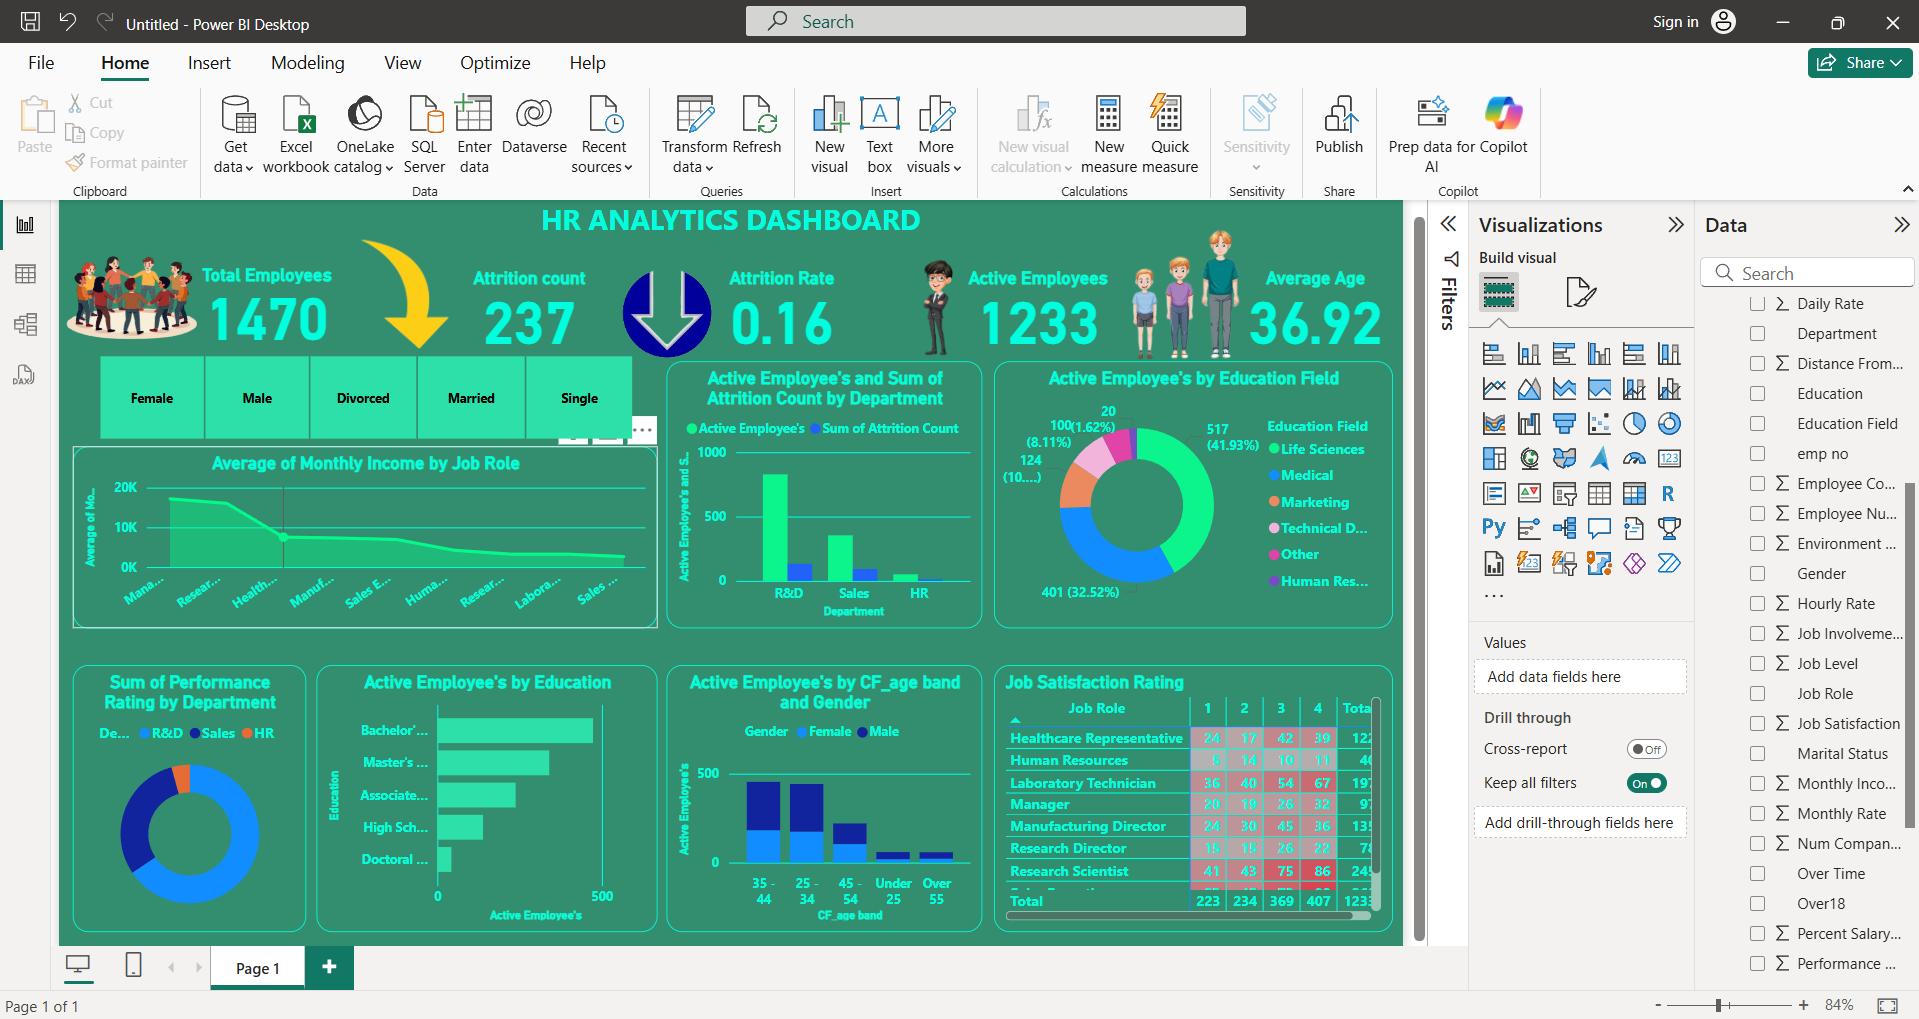

This screenshot's page, from the dashboard's own definition file:
{"tool":"powerbi","page":{"name":"Page 1","canvas":[1280,720],"ordinal":0},"visuals":[{"type":"card","title":"Attrition count","fields":{"Values":["Sum(HR data.Attrition Count)"]},"box":[365.5,69,165.5,94],"z":0},{"type":"card","title":"Total Employees","fields":{"Values":["Sum(HR data.Employee Count)"]},"box":[115.5,65.5,165.5,94],"z":1000},{"type":"card","title":"Average Age","fields":{"Values":["Avg(HR data.Age)"]},"box":[1114.3,69,165.5,94],"z":2000},{"type":"card","title":"Active Employees","fields":{"Values":["HR data.Active Employee's"]},"box":[850,69,165.5,94],"z":3000},{"type":"card","title":"Attrition Rate","fields":{"Values":["HR data.Attrition Rate"]},"box":[606,69,165.5,94],"z":4000},{"type":"clusteredColumnChart","fields":{"Y":["HR data.Active Employee's","Sum(HR data.Attrition Count)"],"Category":["HR data.Department"]},"box":[578.6,158.3,301.2,254.8],"z":5000},{"type":"donutChart","fields":{"Y":["HR data.Active Employee's"],"Category":["HR data.Education Field"]},"box":[890.5,158.3,379.8,254.8],"z":6000},{"type":"columnChart","fields":{"Y":["HR data.Active Employee's"],"Category":["HR data.CF_age band"],"Series":["HR data.Gender"]},"box":[578.6,447.6,301.2,254.8],"z":7000},{"type":"pivotTable","title":"Job Satisfaction Rating","fields":{"Rows":["HR data.Job Role"],"Columns":["HR data.Job Satisfaction"],"Values":["HR data.Active Employee's"]},"box":[890.5,447.6,379.8,254.8],"z":8000},{"type":"donutChart","fields":{"Category":["HR data.Department"],"Y":["Sum(HR data.Performance Rating)"]},"box":[13.1,447.6,222.6,254.8],"z":9000},{"type":"clusteredBarChart","fields":{"Category":["HR data.Education"],"Y":["HR data.Active Employee's"]},"box":[245.2,447.6,325,254.8],"z":10000},{"type":"areaChart","fields":{"Category":["HR data.Job Role"],"Y":["Avg(HR data.Monthly Income)"]},"box":[13.1,239.3,557.1,173.8],"z":11000},{"type":"slicer","fields":{"Values":["HR data.Gender"]},"box":[13.1,146.4,248.8,92.9],"z":12000},{"type":"slicer","fields":{"Values":["HR data.Marital Status"]},"box":[213.1,146.4,357.1,92.9],"z":12001},{"type":"image","box":[0,21.4,140.5,146.4],"z":12002},{"type":"image","box":[267.9,33.3,123.8,122.6],"z":12003},{"type":"image","box":[1004.8,27.4,135.7,135.7],"z":12004},{"type":"image","box":[771.4,56,132.1,102.4],"z":12005},{"type":"image","box":[506,39.3,146.4,146.4],"z":12006},{"type":"textbox","box":[0,0,1279.8,56],"z":12007}]}

Visuals, with their boxes on the page's 1280x720 design canvas (x1, y1, x2, y2). These are canvas units, not pixel positions in the 1919x1019 screenshot, which may show the page scaled, cropped or inside an application window:
"Attrition count" card: [366, 69, 531, 163]
"Total Employees" card: [116, 66, 281, 160]
"Average Age" card: [1114, 69, 1280, 163]
"Active Employees" card: [850, 69, 1016, 163]
"Attrition Rate" card: [606, 69, 772, 163]
clusteredColumnChart - HR data.Active Employee's x Sum(HR data.Attrition Count): [579, 158, 880, 413]
donutChart - HR data.Active Employee's x HR data.Education Field: [890, 158, 1270, 413]
columnChart - HR data.Active Employee's x HR data.CF_age band: [579, 448, 880, 702]
"Job Satisfaction Rating" pivotTable: [890, 448, 1270, 702]
donutChart - HR data.Department x Sum(HR data.Performance Rating): [13, 448, 236, 702]
clusteredBarChart - HR data.Education x HR data.Active Employee's: [245, 448, 570, 702]
areaChart - HR data.Job Role x Avg(HR data.Monthly Income): [13, 239, 570, 413]
slicer - HR data.Gender: [13, 146, 262, 239]
slicer - HR data.Marital Status: [213, 146, 570, 239]
image: [0, 21, 140, 168]
image: [268, 33, 392, 156]
image: [1005, 27, 1140, 163]
image: [771, 56, 904, 158]
image: [506, 39, 652, 186]
textbox: [0, 0, 1280, 56]
